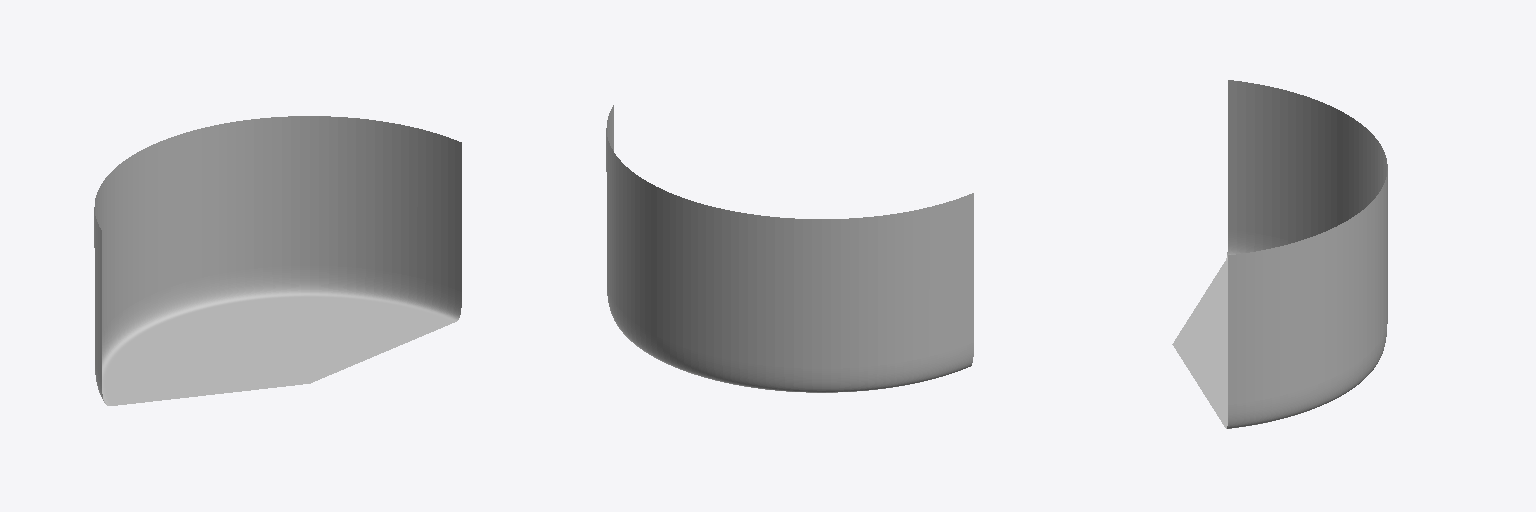
The model's file is infinite_ground_UV.obj.
3 views of the same model, side by side, from view 1: azimuth 30°, elevation 25°; view 2: azimuth 150°, elevation 25°; view 3: azimuth 270°, elevation 25° (orthographic).
Visible parts, largest first — view 1: inf_ground_Mesh.001; view 2: inf_ground_Mesh.001; view 3: inf_ground_Mesh.001.
Part boxes in pixels (x1,y1,x2,y2): inf_ground_Mesh.001: (94,116,461,405); inf_ground_Mesh.001: (606,105,973,392); inf_ground_Mesh.001: (1172,80,1387,428).
Size of the model in its own units: 205 by 96 by 106.